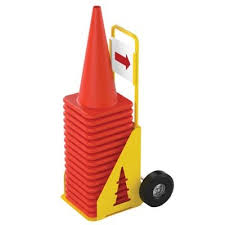cones: (61, 5, 133, 117)
